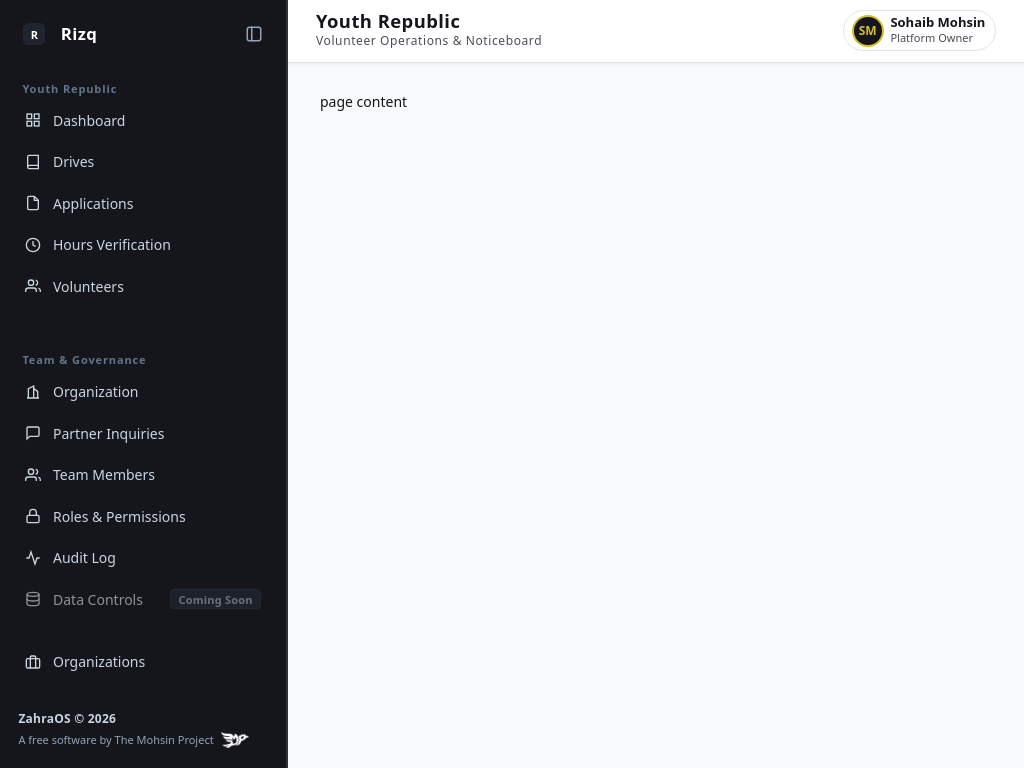
Test: AppShell › displays the user's email instead of staff ID in the profile dropdown menu
Expected: the text "Sohaib Mohsin" is shown, [890, 15, 985, 30]
What coordinates should you click on to do the following:
click the button with aria-label "User Profile Menu"
I would click on:
 (920, 31)
Its box is [843, 10, 996, 51].
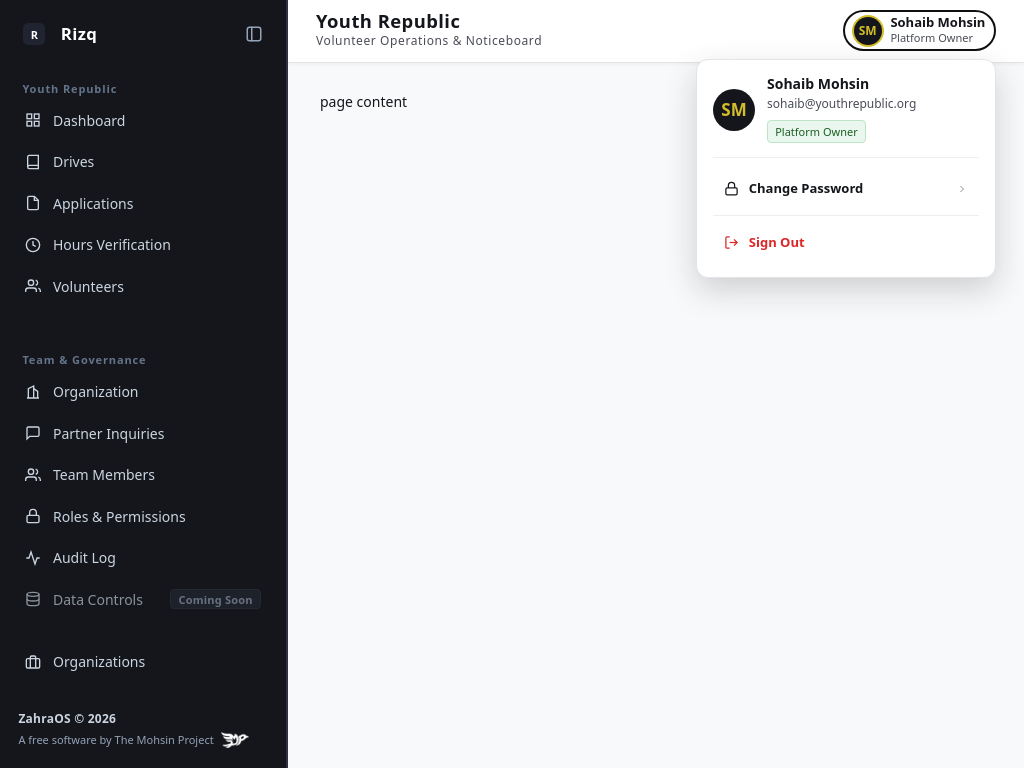
Expected: the text "sohaib@youthrepublic.org" is shown, [767, 95, 916, 113]
